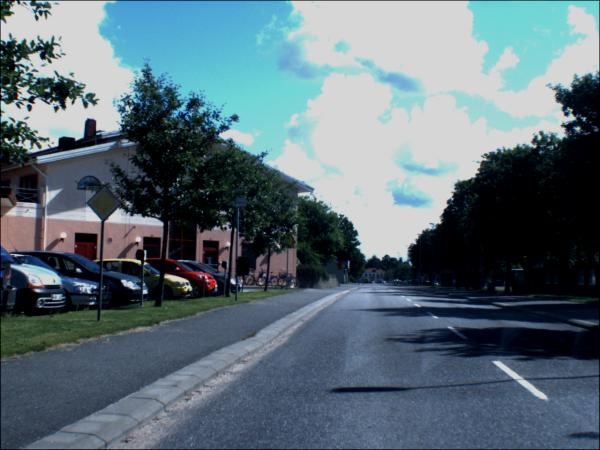PRIORITY_ROAD: (86, 187, 122, 223)
